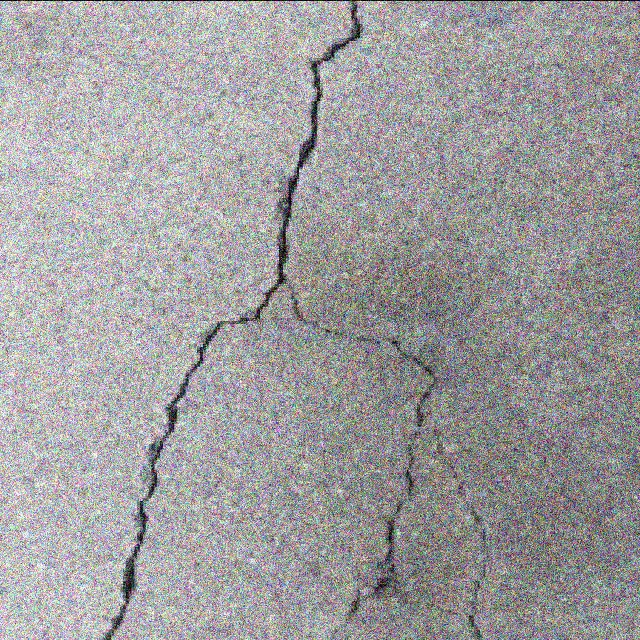SurfaceCrack: (106, 0, 350, 640), (274, 258, 514, 640)
